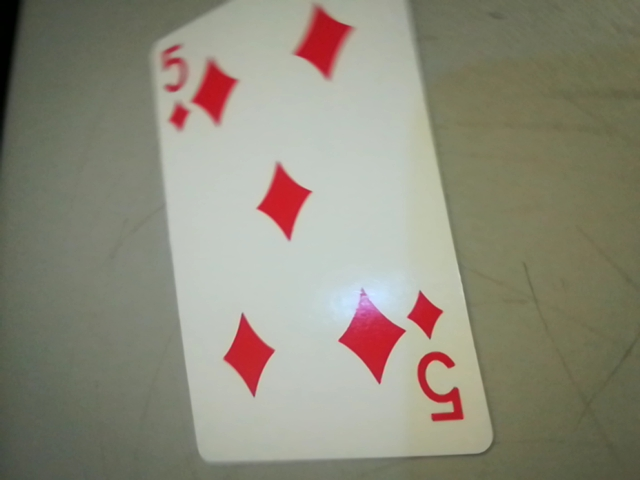fk 5: (399, 281, 474, 435)
